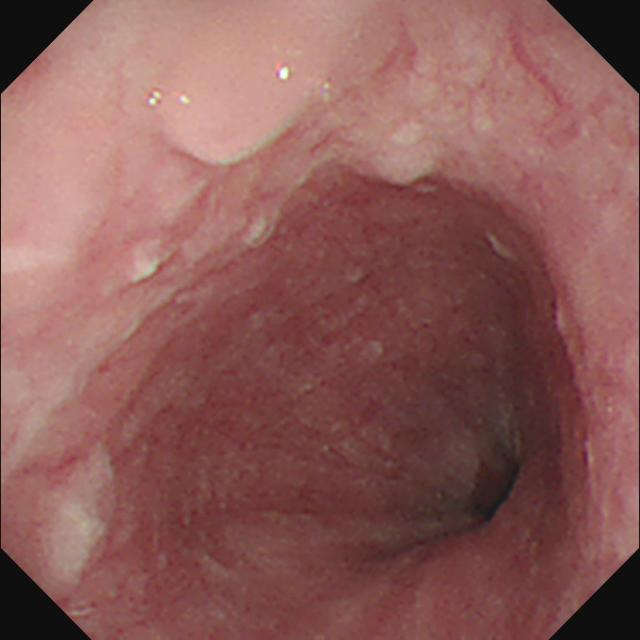A: (181, 340, 332, 479), (542, 294, 620, 499)
J: (175, 65, 323, 173), (40, 443, 120, 588), (235, 201, 291, 258), (119, 238, 174, 295), (487, 232, 517, 264)
